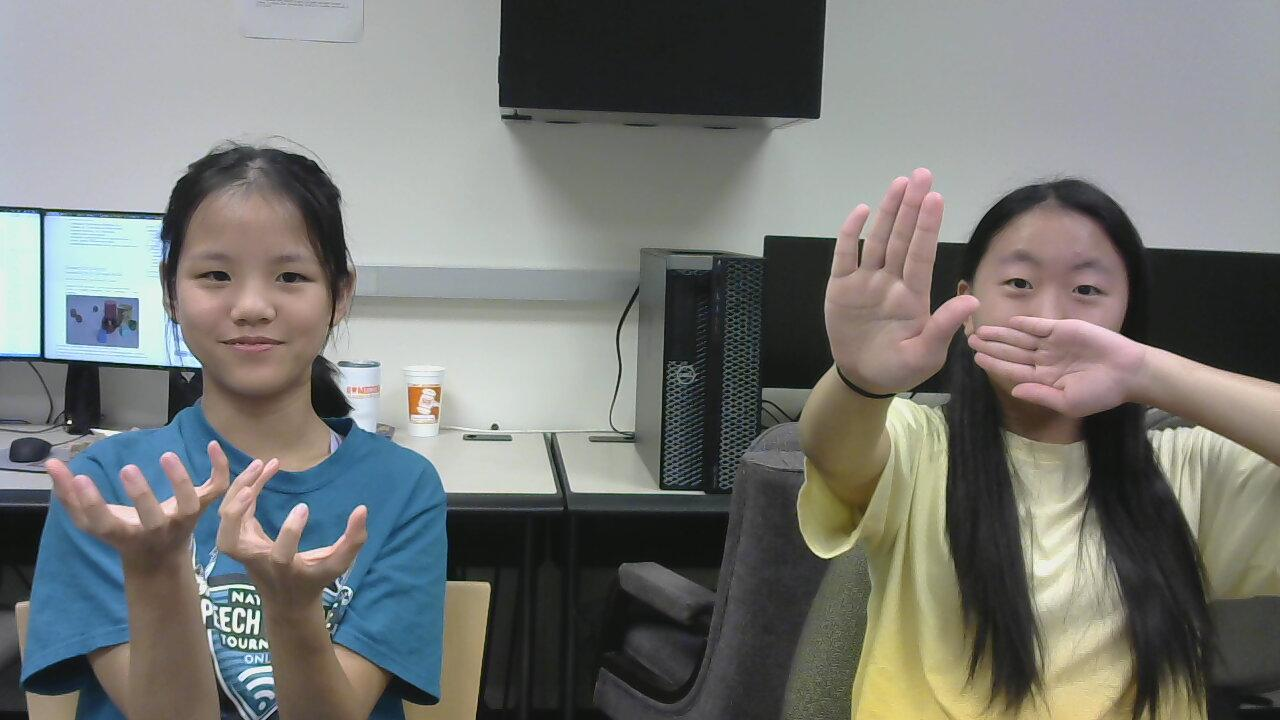hands: (816, 159, 972, 415), (966, 302, 1162, 438), (211, 462, 381, 598), (31, 444, 247, 546)
